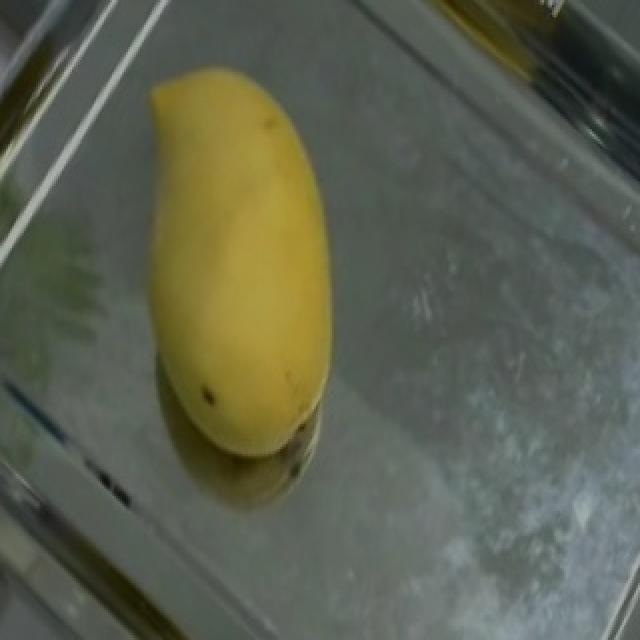fruit: (100, 20, 424, 464)
